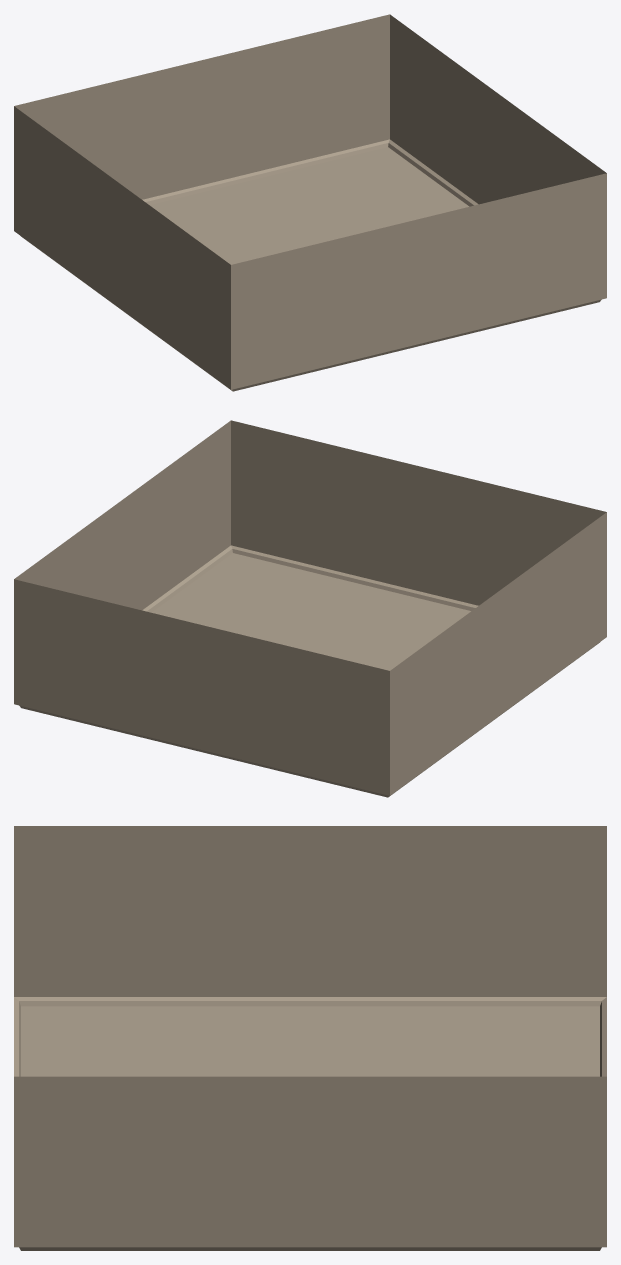
Rendered from tile_layer_base_master_pavers.glb.
3 views of the same model, one above another, from view 1: azimuth 30°, elevation 25°; view 2: azimuth 150°, elevation 25°; view 3: azimuth 270°, elevation 25° (orthographic). The views are drawn at different scales.
Visible parts, largest first — view 1: tile_layer_base_master_pavers_body; view 2: tile_layer_base_master_pavers_body; view 3: tile_layer_base_master_pavers_body.
Boxes of the visible parts, left/top/right/bottom form: tile_layer_base_master_pavers_body: left=14, top=14, right=606, bottom=391; tile_layer_base_master_pavers_body: left=14, top=420, right=606, bottom=797; tile_layer_base_master_pavers_body: left=14, top=826, right=606, bottom=1250.
Size of the model in its own units: 1.35 by 0.445 by 1.35.
